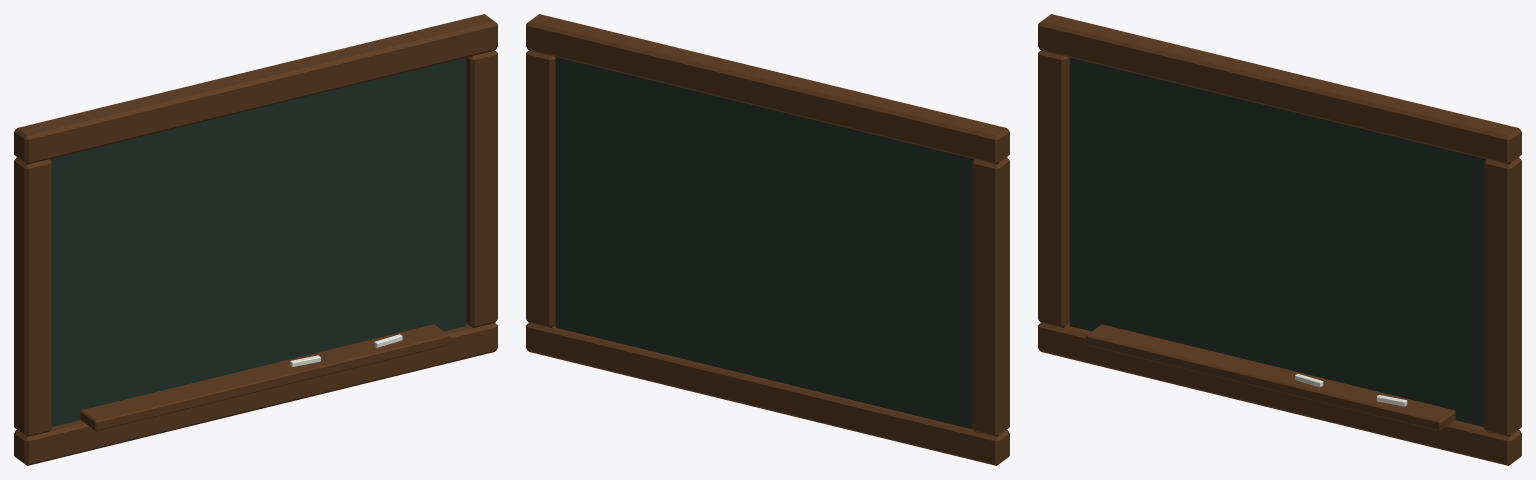
File: Prop_OR_ParlayChalkboard.glb
3 views of the same model, side by side, from view 1: azimuth 30°, elevation 25°; view 2: azimuth 150°, elevation 25°; view 3: azimuth 330°, elevation 25° (orthographic).
Visible parts, largest first — view 1: Prop_OR_ParlayChalkboard; view 2: Prop_OR_ParlayChalkboard; view 3: Prop_OR_ParlayChalkboard.
Part boxes in pixels (box(x1,y1,x2,y2)): Prop_OR_ParlayChalkboard: box(14, 14, 497, 465); Prop_OR_ParlayChalkboard: box(526, 14, 1009, 465); Prop_OR_ParlayChalkboard: box(1038, 14, 1521, 465).
Size of what is drawn, in the model's own units: 1.2 by 0.8 by 0.105.
